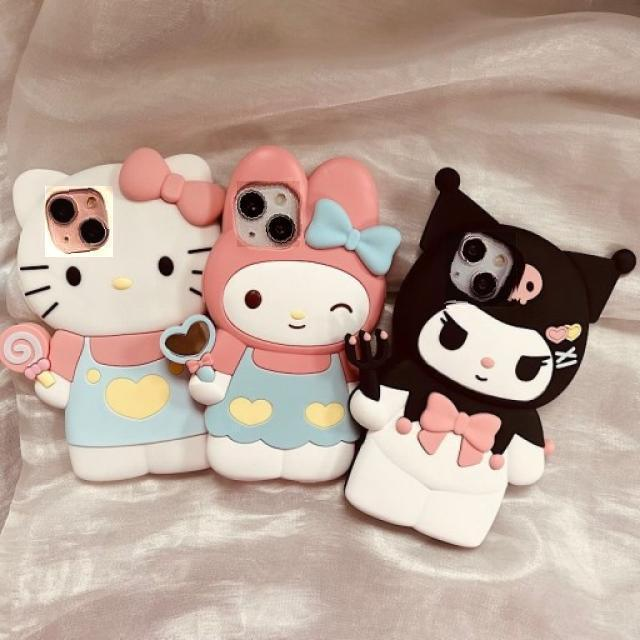lens: (46, 187, 113, 256), (450, 234, 515, 300), (238, 181, 299, 247)
phone: (344, 173, 622, 552), (13, 158, 220, 487), (209, 152, 403, 478)
